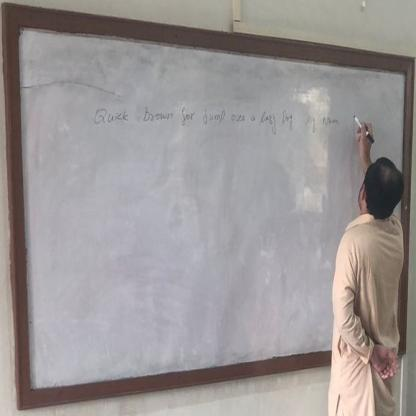Handwritten text: (86, 96, 342, 135)
Lecturer: (321, 143, 405, 397)
Whiteboard: (7, 21, 409, 402)
